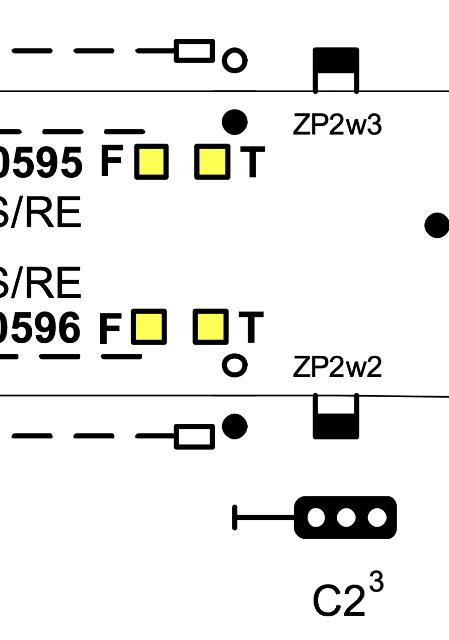mainsignal: (225, 494, 411, 546)
radzaehler: (302, 378, 372, 458), (294, 40, 372, 104)
